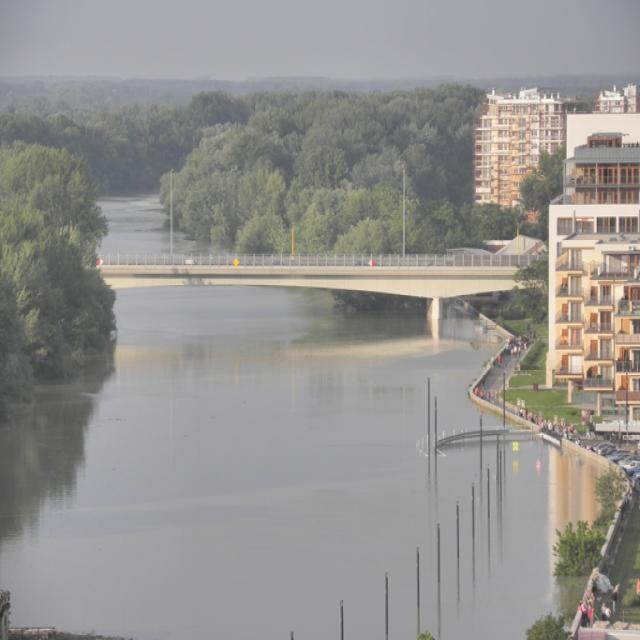flood: (0, 287, 602, 640), (100, 196, 168, 251)
house: (547, 145, 640, 400), (478, 89, 566, 219)
